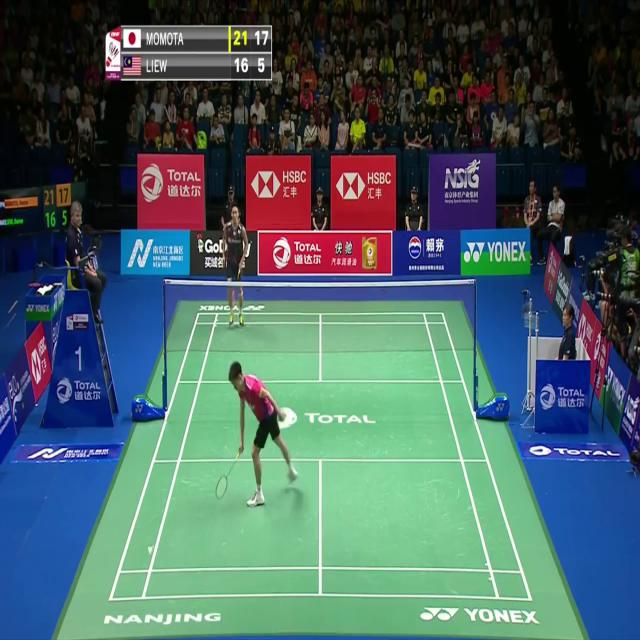Shuttlecock: (148, 543, 155, 554)
